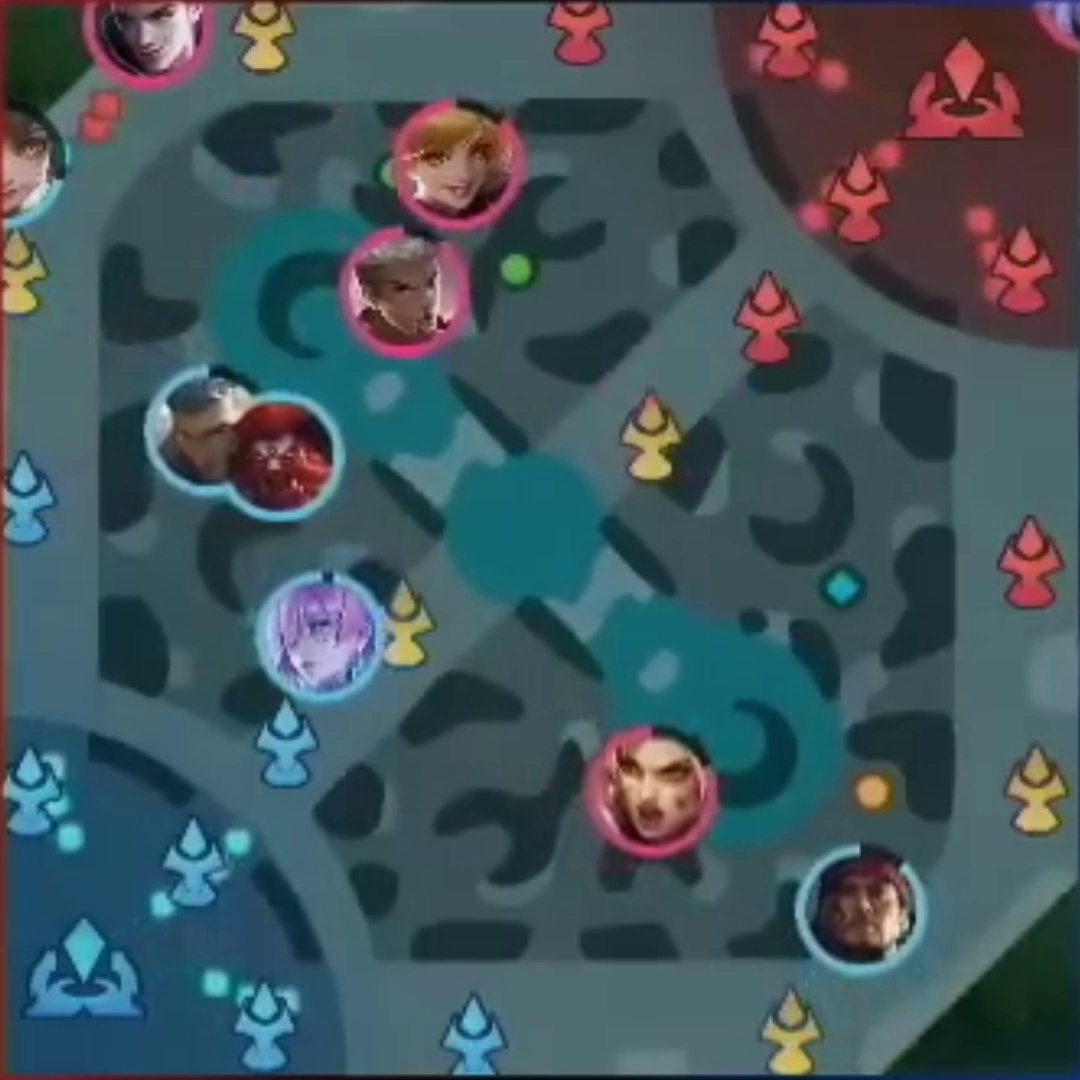Chou: (349, 234, 464, 346)
Claude: (85, 1, 206, 82)
Fanny: (402, 107, 506, 222)
Fredrinn: (150, 375, 247, 479)
Lapu-Lapu: (807, 850, 912, 964)
Masha: (596, 736, 708, 850)
Minotaur: (235, 401, 329, 504)
Novaria: (269, 580, 385, 685)
Wanwan: (1, 101, 72, 227)
